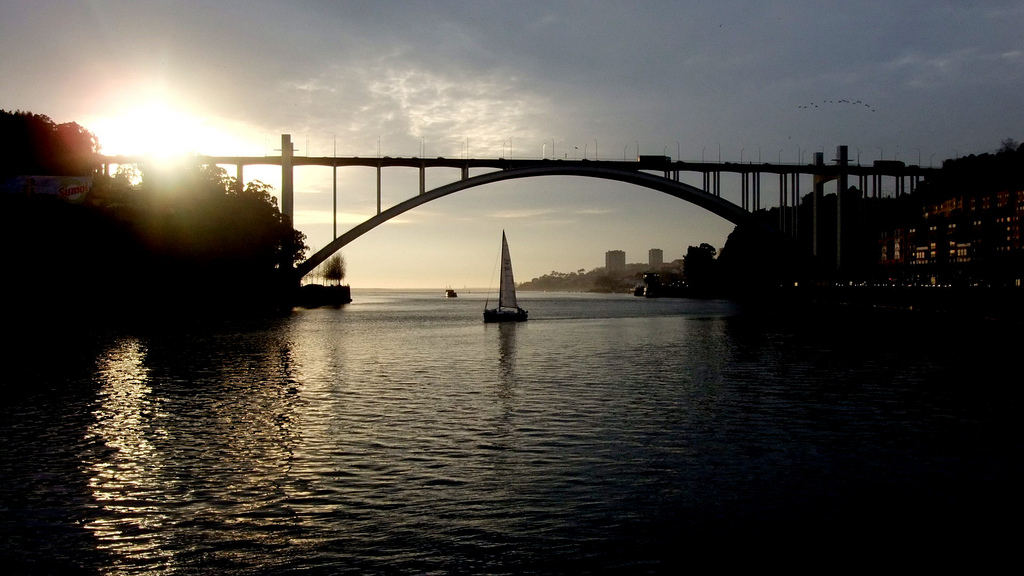arrabida: (197, 132, 942, 289)
